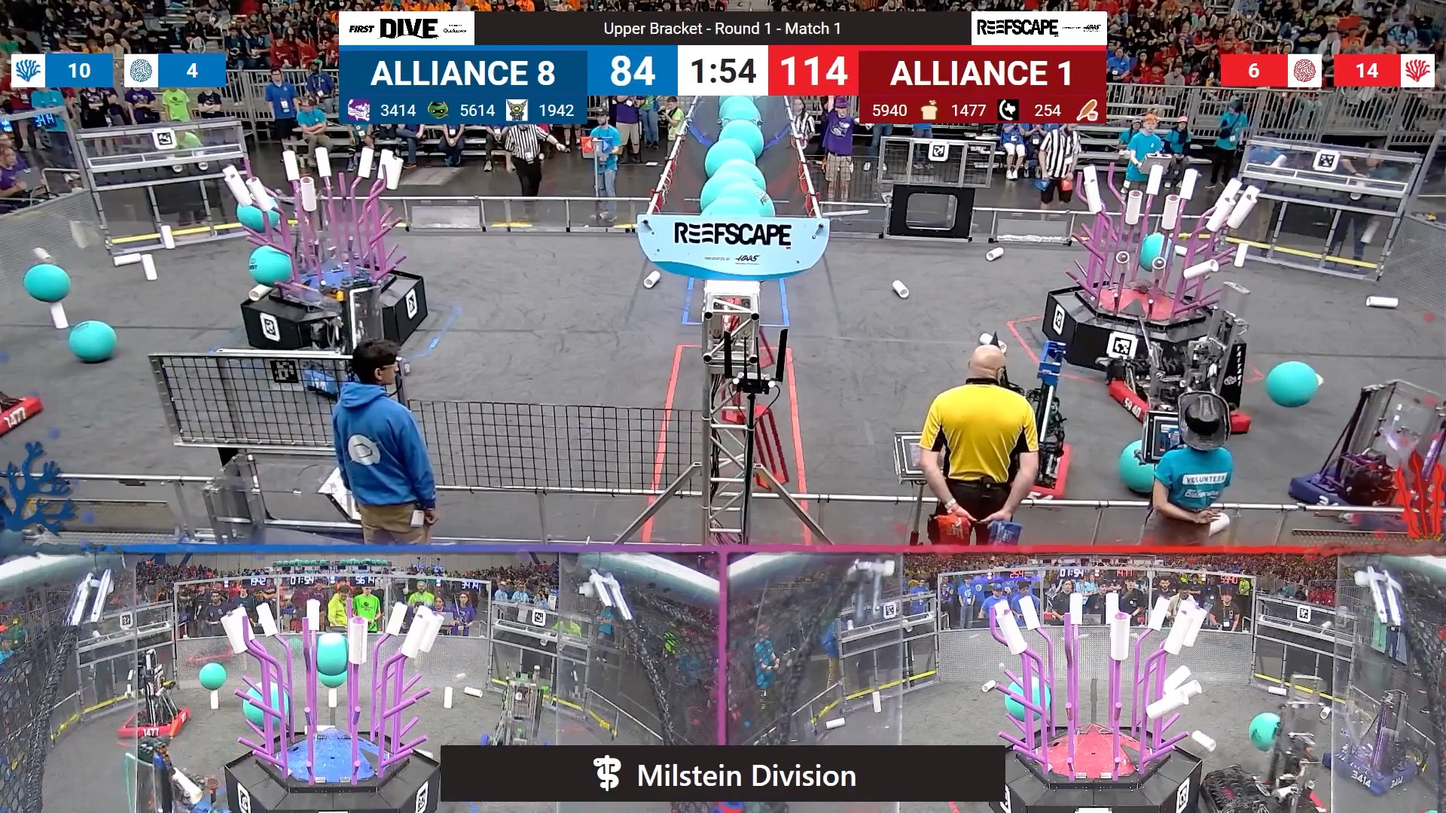bumpers: (1280, 461, 1442, 539), (1092, 370, 1252, 437), (955, 432, 1074, 505), (1322, 751, 1426, 798), (116, 703, 197, 744), (0, 386, 50, 443)
